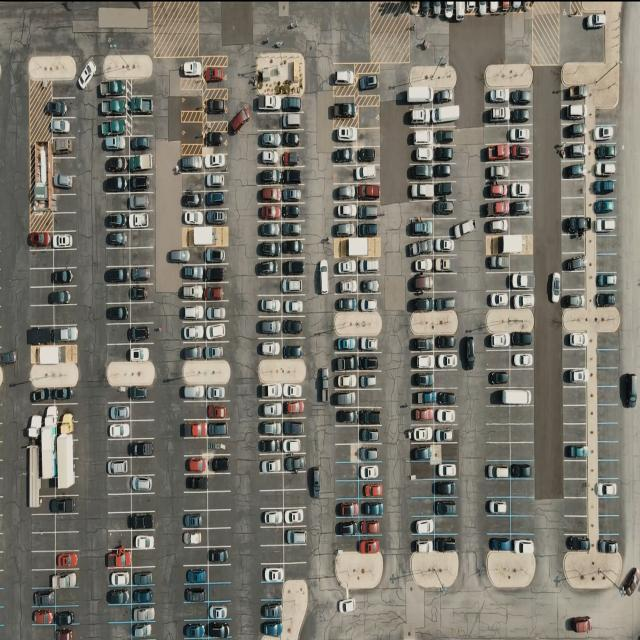space-empty: (489, 406, 534, 426), (482, 349, 510, 369), (30, 286, 58, 306), (30, 305, 54, 327), (54, 304, 78, 326), (105, 323, 130, 344), (560, 178, 586, 198), (130, 229, 156, 249), (106, 528, 130, 549), (562, 349, 587, 369), (563, 479, 588, 499), (562, 234, 587, 254), (181, 401, 206, 421), (560, 197, 586, 216), (104, 248, 130, 267), (130, 247, 156, 266), (560, 271, 586, 290), (408, 201, 434, 220), (184, 601, 210, 620), (510, 423, 536, 442), (255, 112, 282, 130), (356, 106, 379, 127), (130, 117, 154, 137), (180, 124, 204, 144), (563, 406, 587, 426), (595, 235, 619, 255), (130, 304, 154, 324), (283, 489, 307, 509), (411, 460, 435, 480), (357, 388, 381, 408), (106, 512, 130, 532), (31, 514, 55, 534), (335, 424, 359, 444), (510, 496, 534, 516), (563, 496, 587, 516), (483, 126, 508, 145), (106, 439, 131, 458), (105, 284, 130, 303), (106, 493, 131, 512), (563, 458, 588, 477), (183, 492, 208, 511), (56, 531, 81, 550), (104, 192, 129, 211), (485, 442, 510, 461), (511, 443, 536, 462), (410, 496, 435, 515), (436, 370, 461, 389), (29, 325, 54, 344), (484, 480, 510, 498), (129, 78, 155, 96), (487, 516, 513, 534), (597, 385, 620, 405), (132, 456, 155, 476), (335, 461, 358, 481), (52, 193, 76, 212), (563, 386, 587, 405), (106, 476, 130, 495), (258, 277, 282, 296), (208, 563, 232, 582), (31, 532, 55, 551), (132, 419, 156, 438), (132, 492, 156, 511), (563, 423, 587, 442), (596, 349, 620, 368), (262, 527, 286, 546), (261, 472, 285, 491), (410, 479, 434, 498), (564, 516, 588, 535), (434, 274, 458, 293), (179, 173, 203, 192), (53, 79, 77, 98), (261, 489, 285, 508), (208, 511, 232, 530), (487, 423, 511, 442), (511, 480, 536, 498), (182, 439, 207, 457), (55, 588, 80, 606), (183, 548, 208, 566), (485, 273, 510, 291), (54, 248, 76, 268), (32, 568, 54, 588), (597, 442, 619, 462), (510, 162, 533, 181), (356, 128, 379, 147), (56, 514, 79, 533), (131, 401, 154, 420), (31, 552, 54, 571), (207, 474, 230, 493), (207, 438, 230, 457), (510, 254, 534, 272), (29, 250, 53, 268), (435, 516, 459, 534), (509, 216, 533, 234), (283, 471, 307, 489), (53, 159, 77, 177), (262, 584, 286, 602), (434, 218, 458, 236), (132, 550, 156, 568), (262, 546, 286, 564), (596, 332, 620, 350), (107, 604, 131, 622), (511, 368, 535, 386), (106, 385, 130, 403), (29, 269, 53, 287), (54, 212, 76, 231), (334, 165, 356, 184), (208, 491, 230, 510), (597, 423, 619, 442), (597, 459, 619, 478), (208, 583, 230, 602), (437, 444, 459, 463), (596, 256, 619, 274), (283, 546, 306, 564), (180, 94, 203, 112), (336, 481, 359, 499), (597, 406, 620, 424), (597, 367, 620, 385), (208, 528, 231, 546), (510, 517, 534, 534), (106, 345, 130, 362), (108, 623, 132, 640), (598, 516, 619, 535), (596, 498, 618, 516), (594, 108, 616, 126), (284, 562, 306, 580), (335, 536, 359, 552), (335, 444, 356, 462), (32, 626, 55, 640), (358, 95, 380, 109)
space-occupied: (489, 385, 533, 406), (98, 97, 128, 118), (405, 105, 433, 127), (333, 98, 358, 122), (434, 104, 461, 126), (98, 116, 128, 135), (408, 180, 435, 201), (590, 177, 617, 198), (407, 238, 435, 258), (561, 214, 589, 234), (101, 135, 129, 155), (258, 315, 283, 337), (484, 458, 510, 479), (49, 97, 75, 118), (258, 294, 284, 315), (410, 273, 436, 294), (561, 141, 588, 161), (591, 198, 618, 218), (560, 102, 587, 122), (560, 124, 588, 143), (180, 58, 203, 81), (205, 95, 228, 118), (203, 65, 227, 87), (129, 95, 154, 116), (51, 137, 76, 158), (184, 527, 209, 548), (561, 288, 586, 309), (128, 155, 154, 175), (28, 230, 54, 250), (104, 266, 130, 286), (408, 216, 434, 236), (484, 162, 510, 182), (561, 161, 587, 181), (180, 382, 206, 402), (486, 495, 512, 515), (484, 215, 510, 235), (354, 444, 380, 464), (50, 285, 76, 305), (410, 294, 436, 314), (334, 66, 356, 89), (106, 304, 130, 325), (262, 562, 286, 583), (332, 389, 360, 407), (483, 333, 511, 351), (406, 88, 434, 106), (50, 118, 75, 138), (130, 266, 155, 286), (563, 442, 588, 462), (561, 252, 586, 272), (106, 456, 131, 476), (106, 419, 131, 439), (181, 418, 206, 438), (333, 126, 358, 146), (104, 156, 129, 176), (204, 130, 229, 150), (435, 350, 460, 370), (182, 620, 207, 640), (562, 332, 588, 351), (104, 230, 130, 249), (484, 180, 510, 199), (561, 85, 587, 104), (592, 216, 618, 235), (128, 174, 154, 193), (484, 288, 510, 307), (333, 371, 359, 390), (257, 339, 283, 358), (410, 407, 436, 426), (408, 423, 434, 442), (592, 142, 618, 161), (411, 387, 437, 406), (410, 256, 436, 275), (206, 621, 232, 640), (101, 79, 128, 97), (282, 316, 304, 338), (356, 71, 378, 93), (130, 322, 153, 343), (205, 320, 228, 341), (512, 348, 536, 368), (484, 106, 508, 126), (56, 324, 80, 344), (354, 144, 378, 164), (203, 153, 227, 173), (280, 149, 304, 169), (280, 275, 304, 295), (260, 454, 284, 474), (356, 182, 380, 202), (56, 605, 80, 625), (281, 398, 305, 418), (108, 567, 132, 587), (180, 322, 204, 342), (105, 210, 130, 229), (562, 367, 587, 386), (180, 190, 205, 209), (485, 88, 510, 107), (336, 336, 361, 355), (410, 516, 435, 535), (410, 443, 435, 462), (106, 550, 131, 569), (258, 240, 283, 259), (484, 200, 509, 219), (335, 408, 360, 427), (510, 273, 535, 292), (180, 303, 205, 322), (411, 352, 436, 371), (411, 370, 436, 389), (259, 399, 284, 418), (408, 129, 433, 148), (510, 533, 535, 552), (408, 164, 434, 182), (254, 94, 280, 112), (104, 174, 130, 192), (334, 295, 360, 313), (564, 534, 590, 552), (488, 534, 514, 552), (282, 338, 304, 359), (282, 297, 305, 317), (56, 551, 79, 571), (53, 231, 76, 251), (56, 568, 79, 588), (596, 534, 619, 554), (55, 494, 78, 514), (205, 302, 228, 322), (435, 407, 458, 427), (434, 291, 457, 311), (511, 460, 535, 479), (132, 530, 156, 549), (52, 174, 76, 193), (509, 125, 533, 144), (262, 509, 286, 528), (592, 125, 616, 144), (486, 253, 510, 272), (258, 130, 282, 149), (106, 401, 130, 420), (258, 148, 282, 167), (511, 332, 535, 351), (183, 511, 207, 530), (186, 565, 210, 584), (178, 155, 202, 174), (182, 456, 206, 475), (32, 608, 56, 627), (354, 164, 378, 183), (256, 259, 280, 278), (333, 145, 357, 164), (409, 144, 433, 163), (334, 202, 358, 221), (185, 475, 209, 494), (511, 289, 535, 308), (204, 282, 228, 301), (280, 259, 304, 278), (180, 282, 204, 301), (434, 479, 458, 498), (594, 289, 618, 308), (488, 369, 512, 388), (129, 136, 154, 154), (483, 144, 508, 162), (336, 518, 361, 536), (593, 162, 618, 180), (356, 462, 381, 480), (180, 342, 205, 360), (132, 475, 154, 495), (283, 508, 305, 528), (208, 600, 230, 620), (132, 438, 154, 458), (281, 436, 303, 456), (130, 210, 153, 229), (435, 237, 458, 256), (32, 589, 55, 608), (511, 89, 534, 108), (510, 142, 533, 161), (356, 202, 379, 221), (207, 455, 230, 474), (130, 283, 153, 302), (510, 106, 533, 125), (282, 453, 305, 472), (262, 600, 285, 619), (207, 402, 230, 421), (129, 344, 152, 363), (132, 513, 155, 532), (510, 199, 534, 217), (130, 192, 154, 210), (258, 168, 282, 186), (336, 498, 360, 516), (334, 183, 358, 201), (258, 220, 282, 238), (334, 219, 358, 237), (258, 203, 282, 221), (358, 518, 382, 536), (280, 220, 304, 238), (335, 276, 359, 294), (260, 418, 284, 436), (181, 209, 205, 227), (280, 240, 304, 258), (335, 354, 359, 372), (32, 386, 56, 404), (434, 534, 458, 552), (411, 534, 435, 552), (208, 547, 230, 566), (204, 171, 226, 190), (207, 418, 229, 437), (53, 268, 75, 287), (436, 497, 458, 516), (357, 352, 379, 371), (262, 620, 284, 639), (54, 383, 76, 402), (132, 566, 154, 585), (511, 180, 534, 198), (434, 256, 457, 274), (281, 382, 304, 400), (259, 184, 282, 202), (357, 425, 380, 443), (206, 384, 229, 402), (184, 585, 207, 603), (357, 409, 380, 427), (596, 480, 619, 498), (280, 203, 303, 221), (205, 210, 228, 228), (359, 498, 382, 516), (336, 259, 359, 277), (283, 527, 306, 545), (435, 425, 458, 443), (181, 266, 204, 284), (204, 266, 227, 284), (204, 342, 227, 360), (258, 383, 282, 400), (434, 461, 458, 478), (280, 169, 304, 186), (411, 336, 435, 353), (260, 438, 284, 455), (280, 185, 304, 202), (132, 604, 156, 621), (172, 247, 196, 264), (434, 164, 456, 182), (280, 131, 302, 149), (357, 372, 379, 390), (204, 190, 226, 208), (280, 112, 302, 130), (434, 128, 456, 146), (132, 587, 154, 605), (357, 276, 379, 294), (596, 272, 618, 290), (358, 535, 380, 553), (205, 246, 227, 264), (282, 418, 304, 436), (356, 295, 378, 313), (356, 220, 379, 237), (359, 482, 382, 499), (434, 336, 458, 352), (254, 70, 273, 90), (435, 180, 456, 198), (437, 388, 458, 406), (357, 258, 378, 276), (434, 146, 456, 163), (281, 96, 303, 113), (108, 588, 130, 605), (132, 623, 154, 640), (436, 201, 456, 219), (358, 337, 379, 354), (432, 90, 454, 106), (130, 386, 152, 402), (55, 626, 75, 640)
